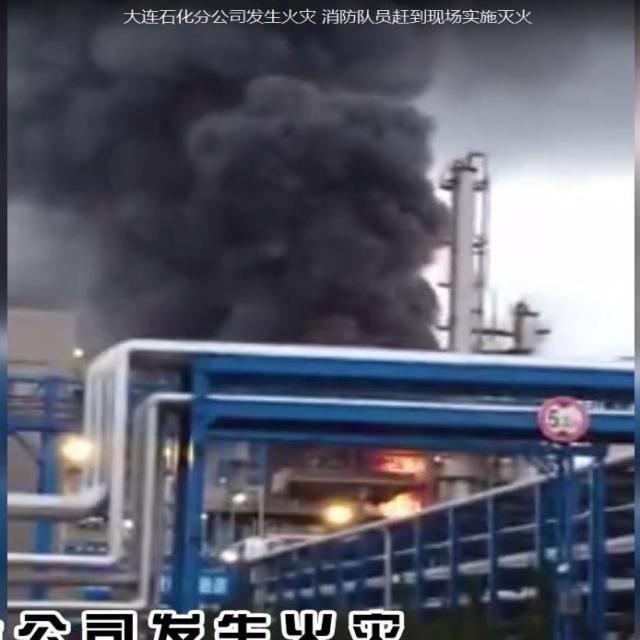Fire: (376, 493, 422, 522), (378, 449, 425, 474)
Smoke: (7, 1, 453, 352)
